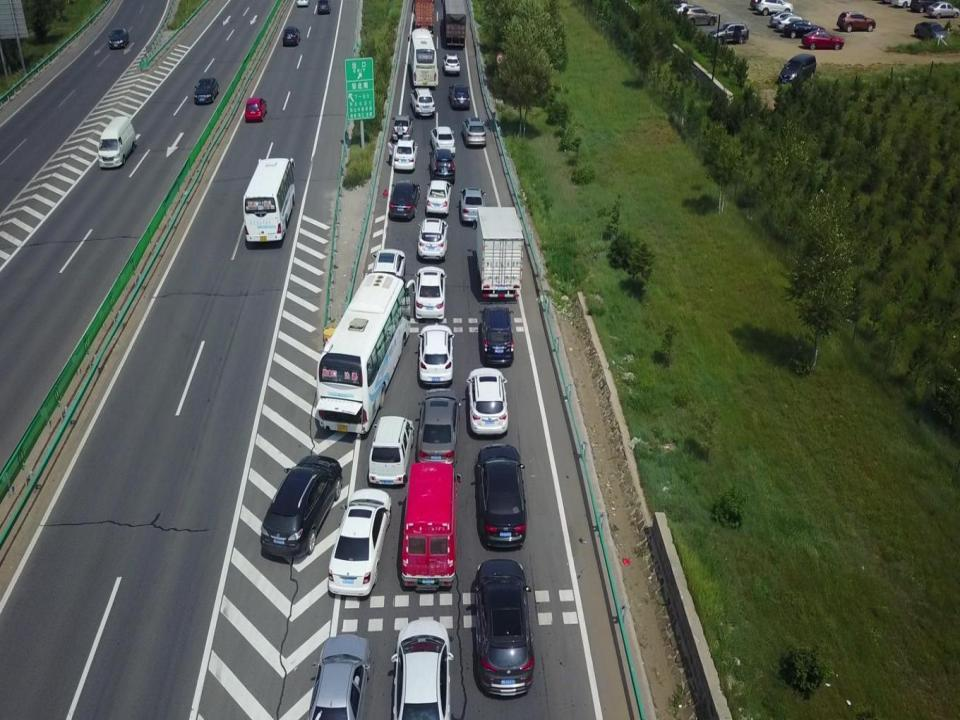bus: (316, 271, 415, 434), (243, 156, 296, 241), (407, 28, 438, 87)
car: (467, 559, 535, 699), (260, 454, 343, 558), (328, 488, 391, 598), (390, 618, 454, 720), (474, 443, 526, 551), (306, 635, 369, 720), (416, 388, 461, 468), (368, 415, 413, 485), (465, 367, 508, 434), (417, 324, 455, 386), (480, 305, 514, 364), (371, 249, 405, 302), (415, 265, 447, 319), (417, 218, 448, 262), (389, 180, 421, 219), (777, 54, 816, 84), (459, 185, 486, 224), (708, 22, 749, 45), (429, 147, 455, 183), (426, 179, 452, 213), (393, 138, 418, 172), (410, 87, 435, 120), (800, 29, 843, 48), (429, 126, 456, 156), (913, 20, 948, 43), (837, 11, 876, 31), (461, 117, 486, 147), (194, 77, 220, 104), (682, 6, 716, 26), (785, 21, 825, 38), (390, 114, 413, 143), (448, 83, 470, 110), (757, 0, 794, 14), (245, 97, 267, 120), (927, 2, 956, 18), (107, 27, 129, 48), (910, 0, 942, 14), (776, 16, 807, 30), (771, 12, 799, 26), (672, 4, 704, 16), (282, 26, 301, 46), (442, 53, 460, 74), (317, 0, 332, 13)
truck: (473, 206, 523, 298), (441, 0, 467, 49), (413, 0, 435, 36)
van: (402, 459, 460, 591), (97, 115, 136, 168)
